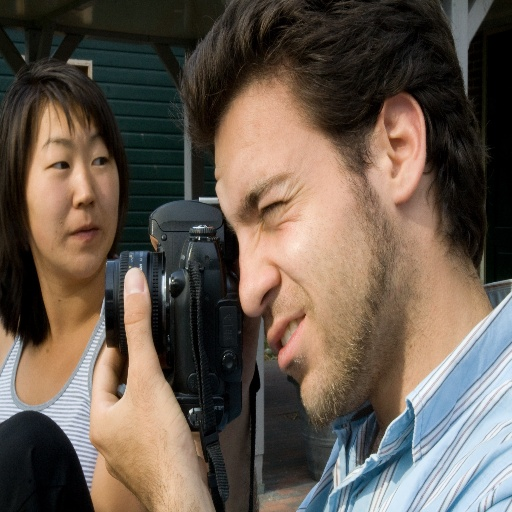hand: (88, 267, 207, 511), (242, 311, 263, 401)
